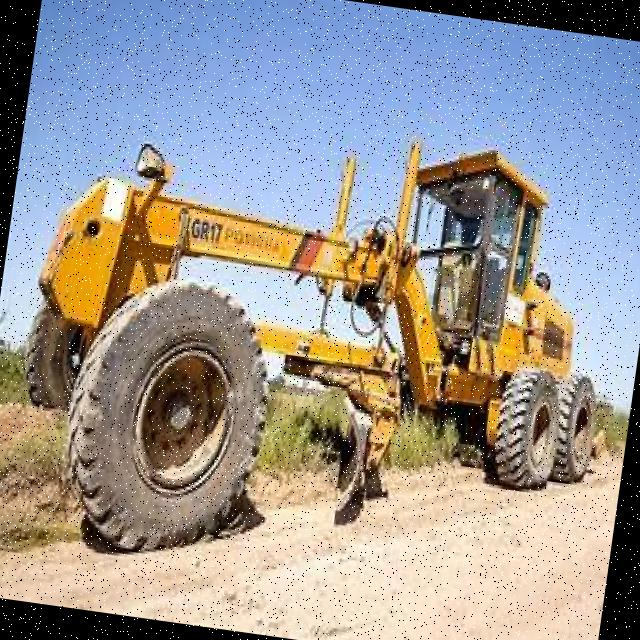Grader: (2, 65, 640, 616)
